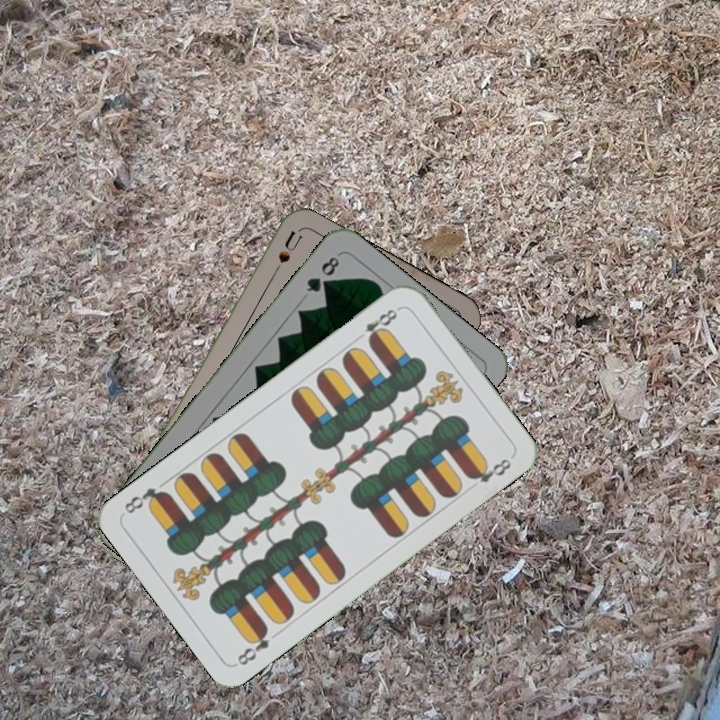E8: (352, 303, 403, 346), (233, 622, 273, 668)
G8: (302, 252, 342, 295)
SU: (265, 227, 305, 284)
